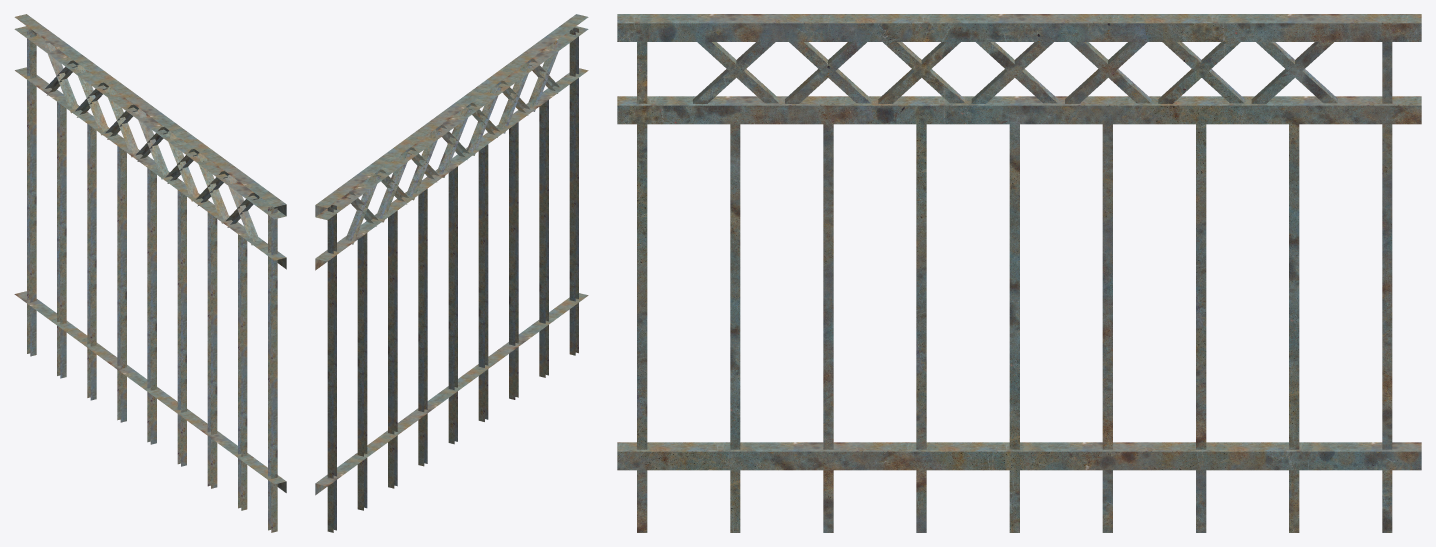
File: assets_reja.fbx
3 renders of one model, left to right at view 1: azimuth 30°, elevation 25°; view 2: azimuth 150°, elevation 25°; view 3: azimuth 270°, elevation 25°, orthographic. The views are drawn at different scales.
Visible parts, largest first — view 1: cercaMetal076; view 2: cercaMetal076; view 3: cercaMetal076.
Part boxes in pixels (x1=…): cercaMetal076: x1=14, y1=14, x2=286, y2=532; cercaMetal076: x1=315, y1=14, x2=588, y2=532; cercaMetal076: x1=617, y1=14, x2=1421, y2=532.
Bounding box in the file's own units: 1.83 × 46.69 × 66.5.
